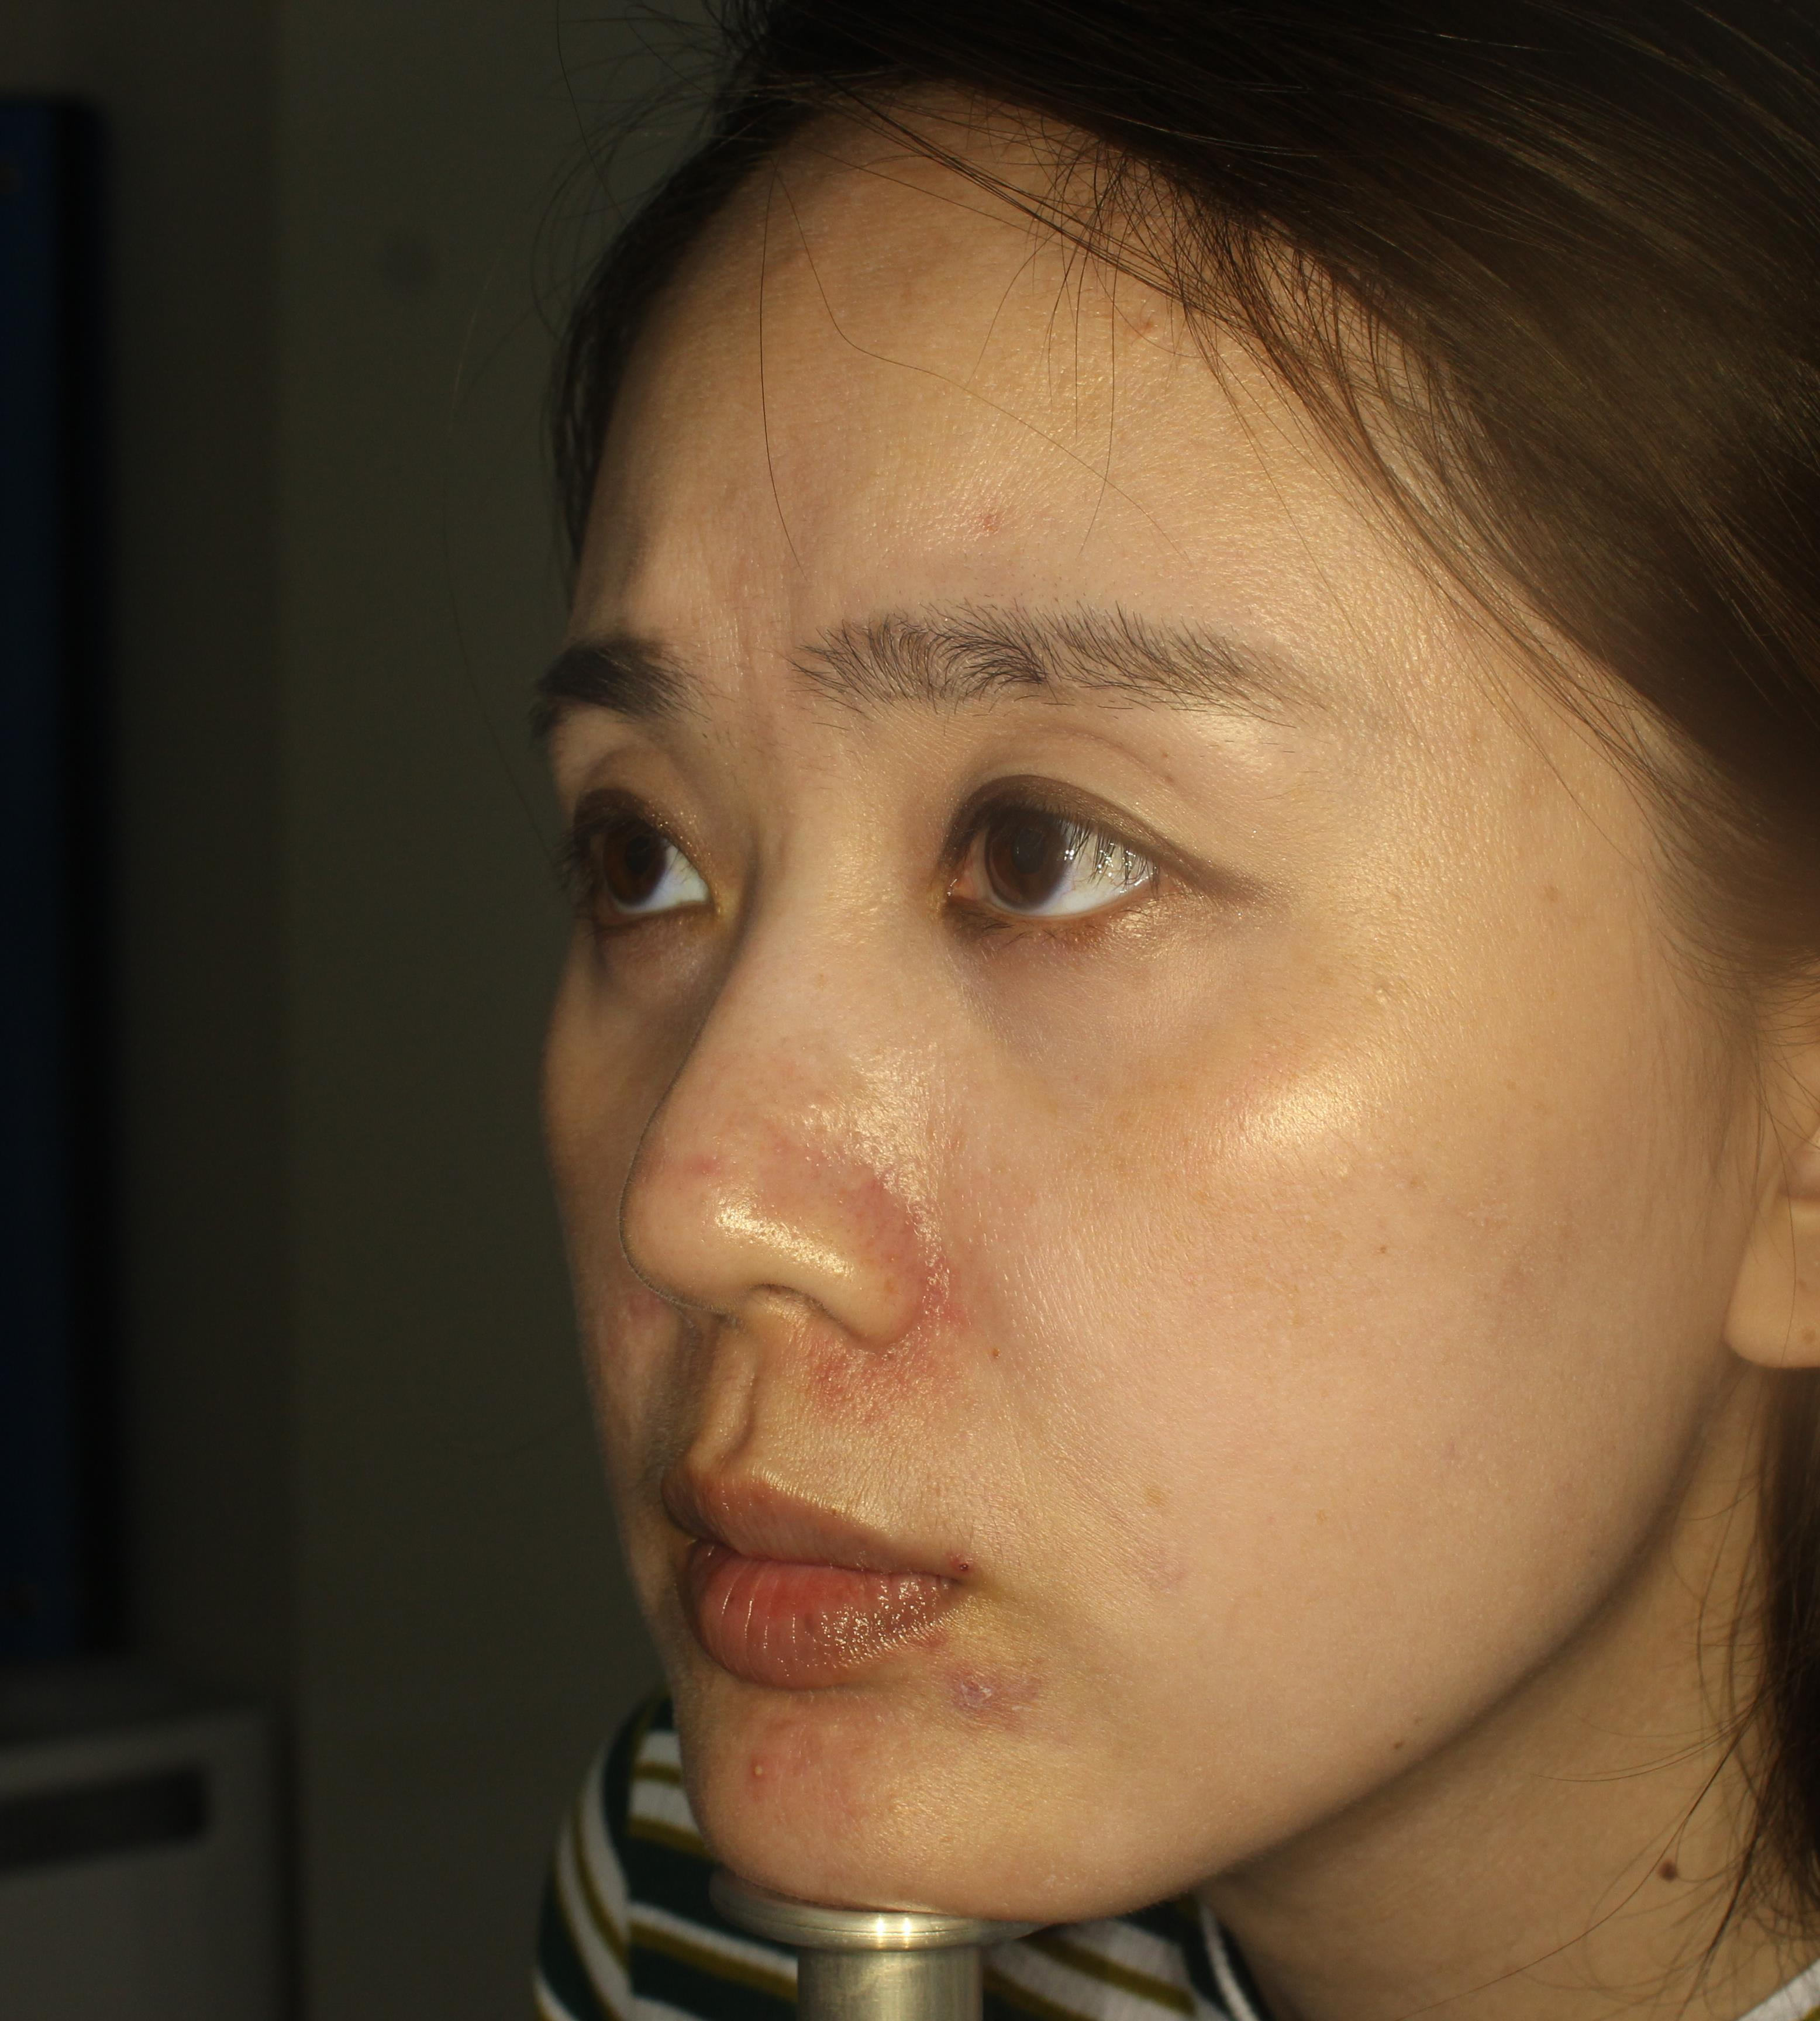fore: (947, 1643, 1051, 1710), (731, 1724, 817, 1794)
